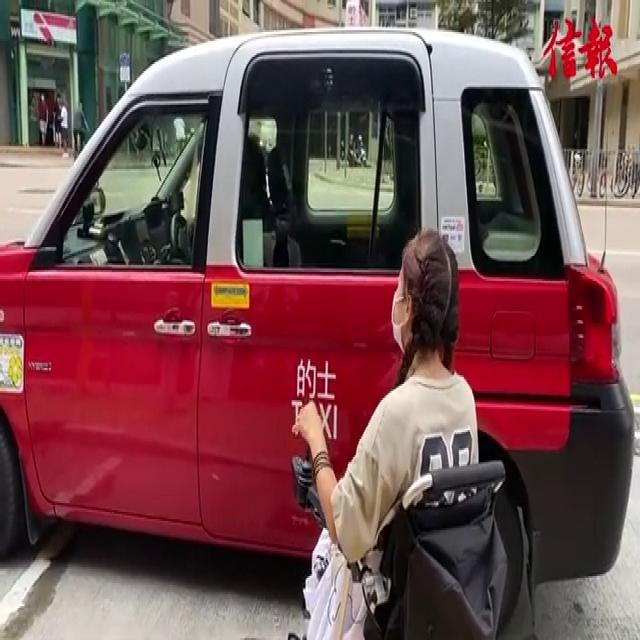wheelchairs: (284, 432, 542, 636)
